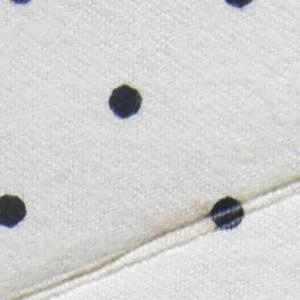Oil Stain: (5, 172, 300, 300)
